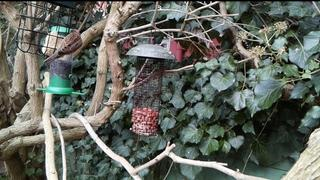sparrow: (43, 28, 83, 66)
